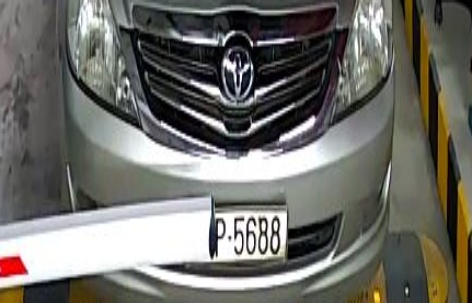plate: (171, 199, 288, 260)
